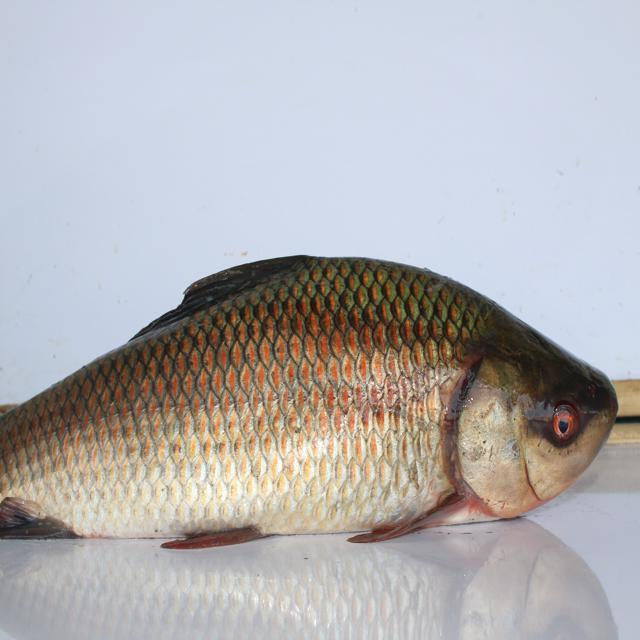Rohu: (1, 250, 629, 528)
